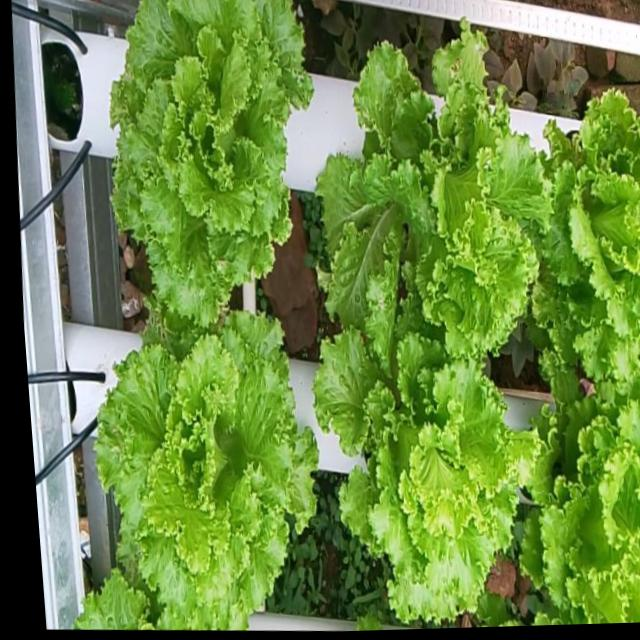Mature: (315, 26, 550, 358), (75, 309, 317, 629), (312, 303, 541, 625), (110, 0, 312, 329), (533, 93, 640, 387), (520, 377, 640, 625)
